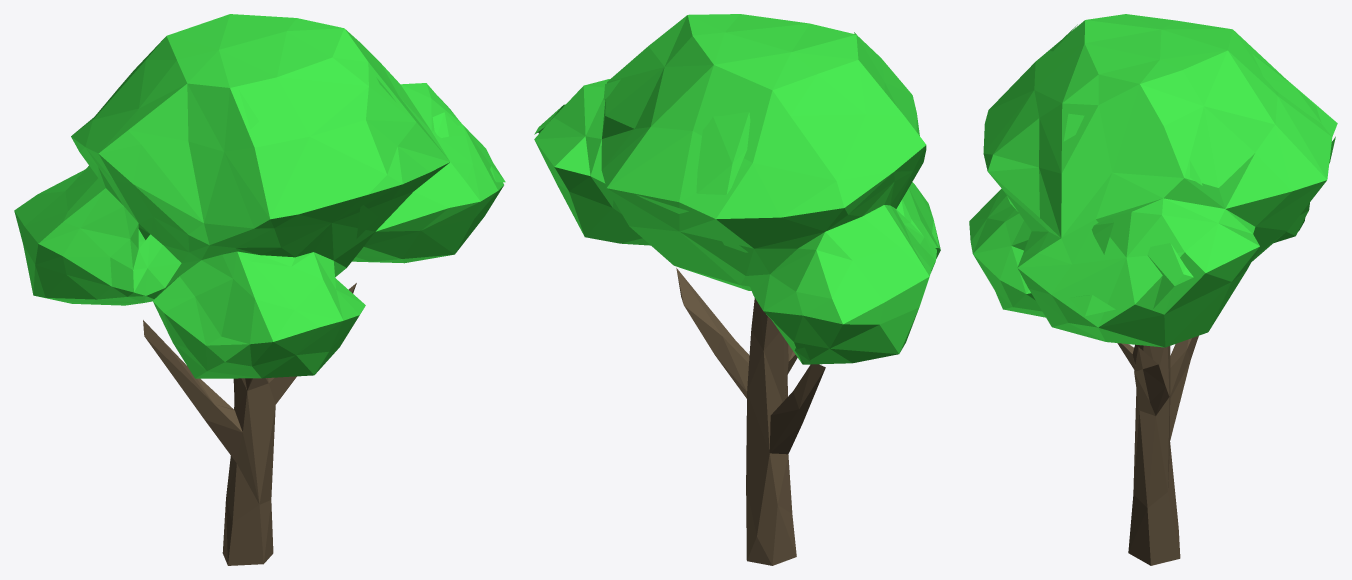
Rendered from Tree_9-col.glb.
3 renders of one model, left to right at view 1: azimuth 30°, elevation 25°; view 2: azimuth 150°, elevation 25°; view 3: azimuth 270°, elevation 25°, orthographic.
Parts seen in each view (by area): view 1: geometry_0; view 2: geometry_0; view 3: geometry_0.
Boxes of the visible parts, bbox=[...] form: geometry_0: bbox=[14, 14, 505, 565]; geometry_0: bbox=[534, 14, 940, 565]; geometry_0: bbox=[969, 14, 1337, 565].
Bounding box in the file's own units: 1.68 × 2 × 1.3.
